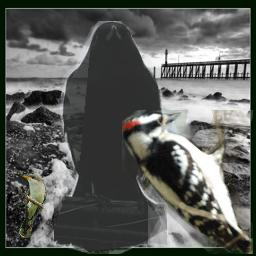Crow: (54, 21, 167, 254)
Cuckoo: (19, 174, 47, 238)
Woodpecker: (122, 110, 253, 254)
